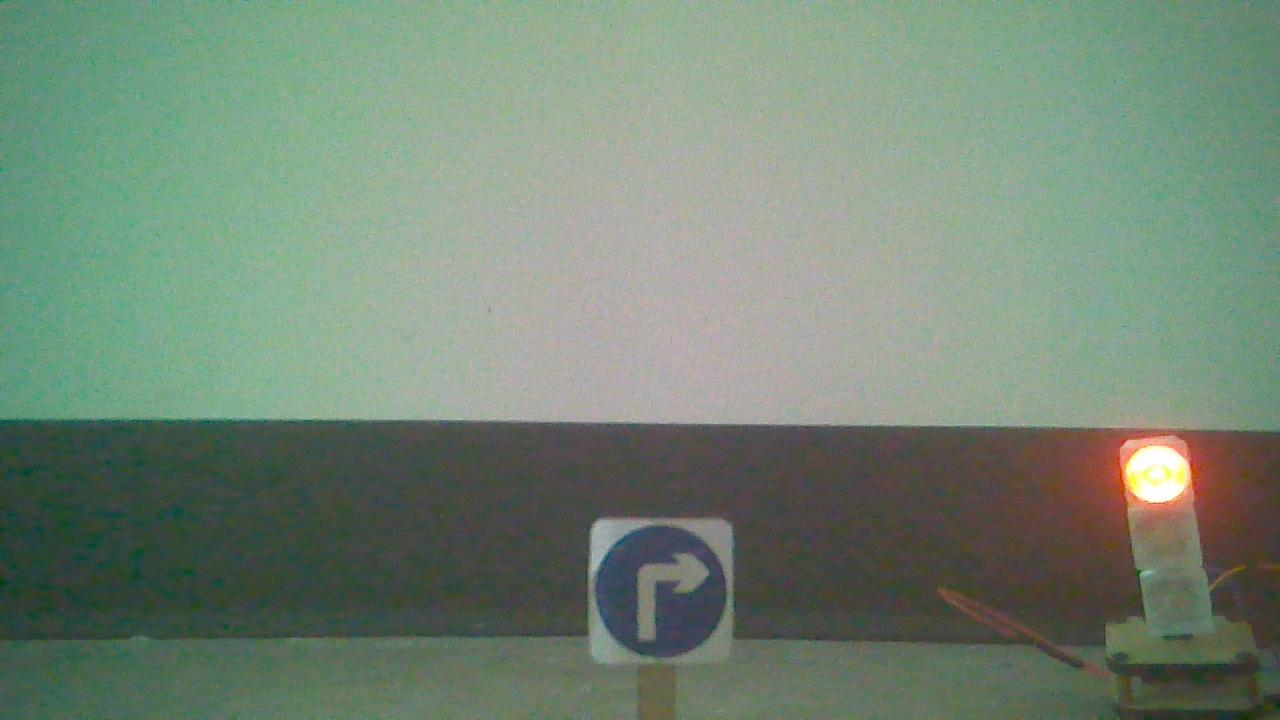red: (1116, 440, 1217, 635)
turn: (598, 523, 728, 661)
